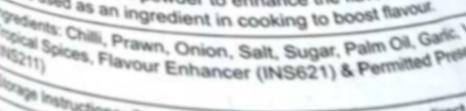ingredients: (0, 4, 466, 102)
